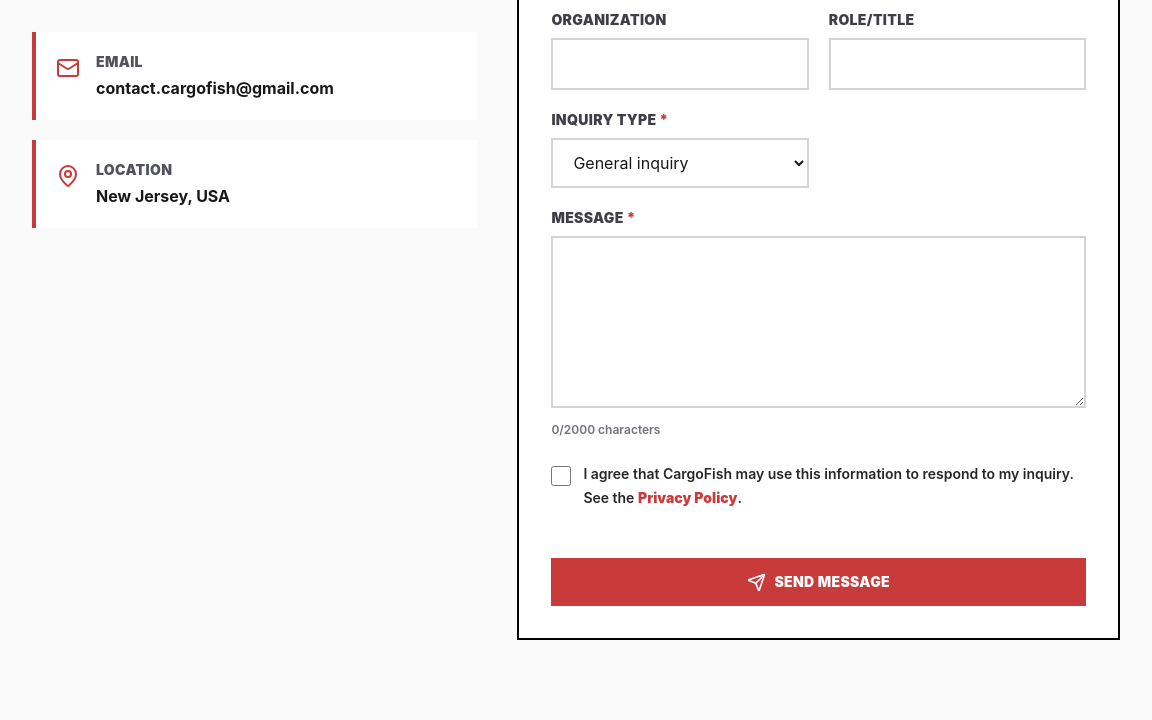
Test: Contact › shows field-specific validation errors before submitting
This screenshot has width=1152, height=720.
(page scrolled)
Click the button "Send Message". click: (819, 582)
box: [551, 558, 1086, 606]
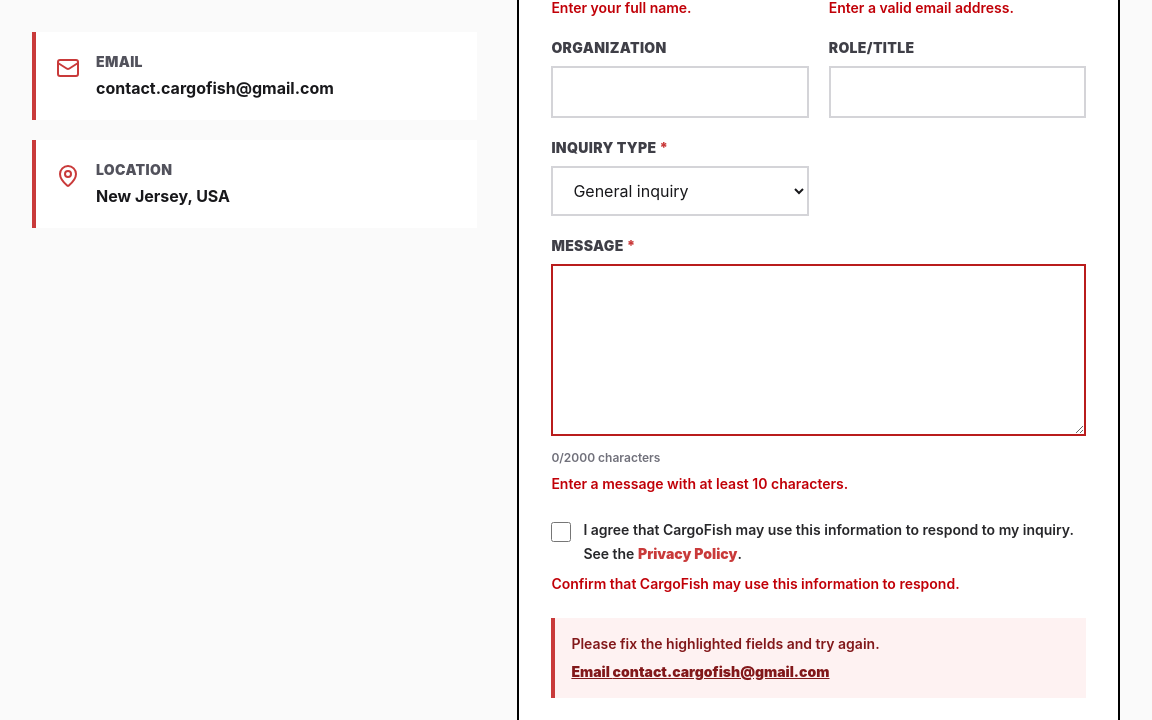
Check: the text "Enter your full name." is shown, box [551, 0, 692, 16]
Check: the text "Enter a valid email address." is shown, box [829, 0, 1014, 16]
Check: the text "Enter a message with at least 10 characters." is shown, box [551, 475, 848, 492]
